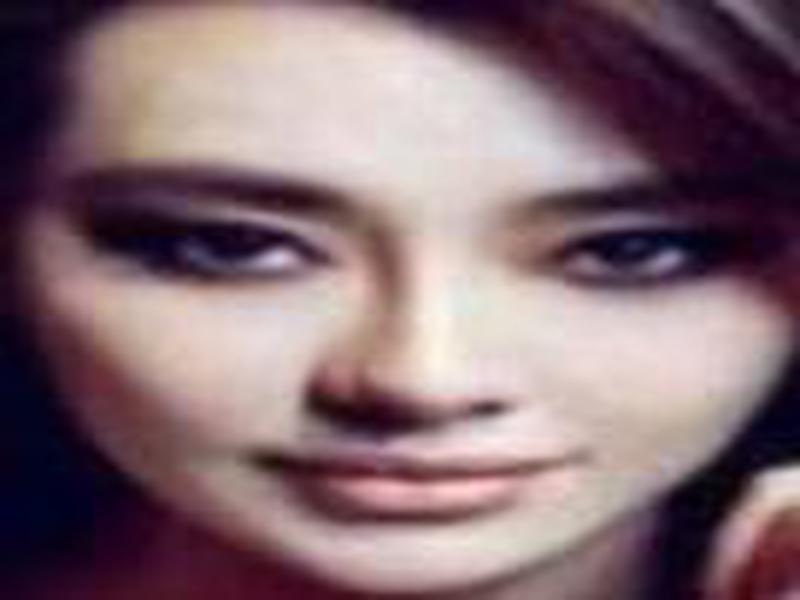without_mask: (28, 79, 787, 591)
